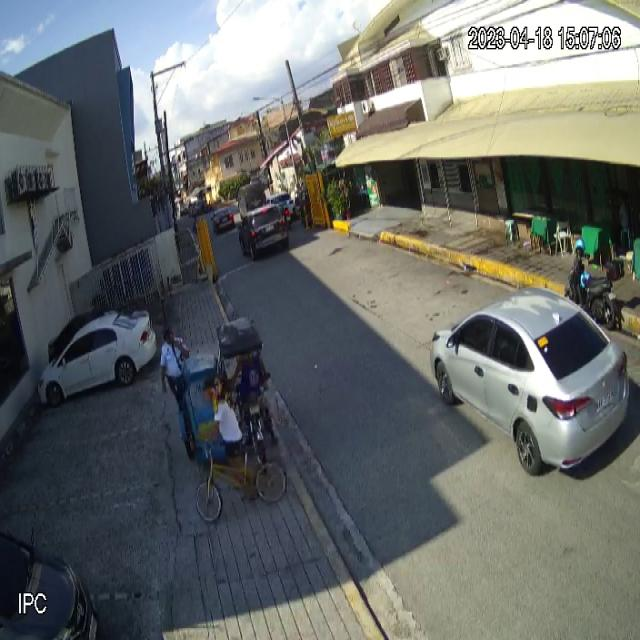Car: (430, 288, 630, 476), (38, 311, 158, 406)
Motorcycle: (564, 248, 625, 332)
Tricycle: (178, 318, 268, 470)
